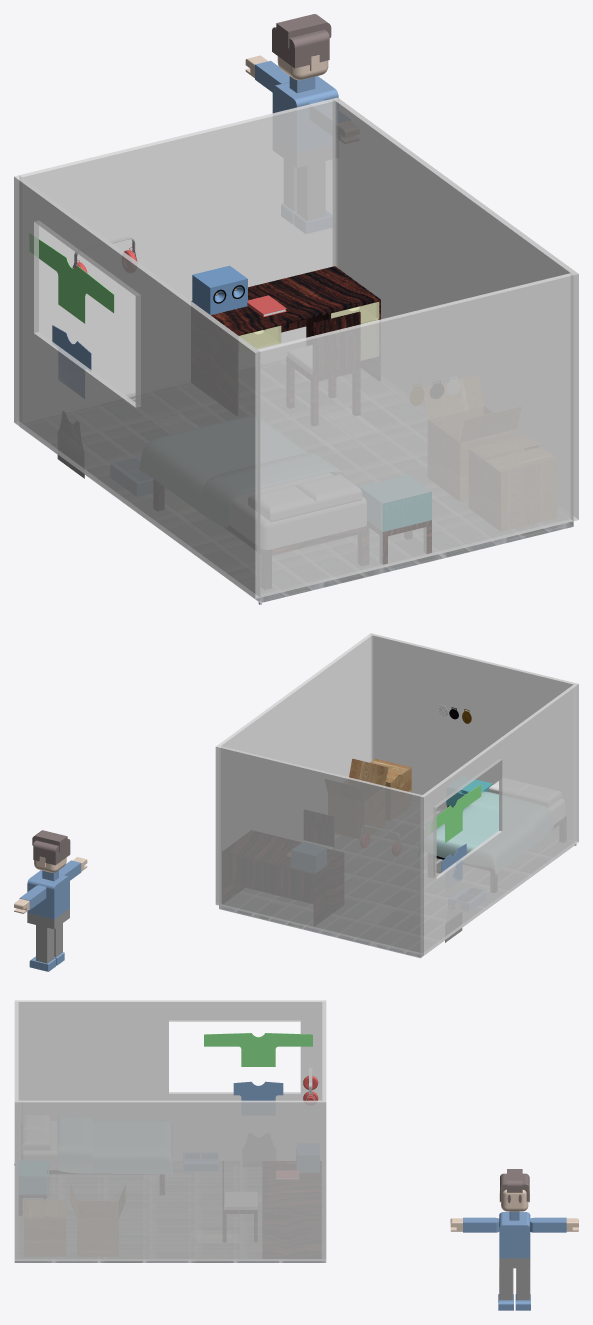
Rendered from todo.fbx.
3 views of the same model, one above another, from view 1: azimuth 30°, elevation 25°; view 2: azimuth 150°, elevation 25°; view 3: azimuth 270°, elevation 25° (orthographic). The views are drawn at different scales.
Parts seen in each view (by area): view 1: object_82, object_9, object_86, object_80, object_75, object_42, object_79, object_33, object_78, object_32; view 2: object_82, object_86, object_43, object_80, object_42, object_29, object_30, object_79; view 3: object_82, object_86, object_80, object_79, object_42.
Boxes of the visible parts, x1,y1,x2,y2 form: object_82: (14, 97, 578, 598); object_9: (191, 266, 380, 348); object_86: (245, 14, 338, 113); object_80: (29, 233, 114, 323); object_75: (192, 265, 247, 315); object_42: (20, 395, 573, 602); object_79: (52, 325, 91, 398); object_33: (382, 493, 431, 530); object_78: (57, 411, 84, 478); object_32: (382, 492, 431, 564); object_82: (215, 633, 578, 955); object_86: (14, 830, 87, 971); object_43: (436, 780, 498, 859); object_80: (429, 784, 481, 842); object_42: (219, 809, 574, 957); object_29: (349, 758, 388, 785); object_30: (370, 758, 411, 792); object_79: (441, 843, 466, 880); object_82: (14, 1000, 326, 1260); object_86: (450, 1169, 578, 1310); object_80: (204, 1033, 312, 1066); object_79: (233, 1081, 283, 1100); object_42: (14, 1261, 326, 1262).
Size of the model in its own units: 43900 by 23700 by 72550.
